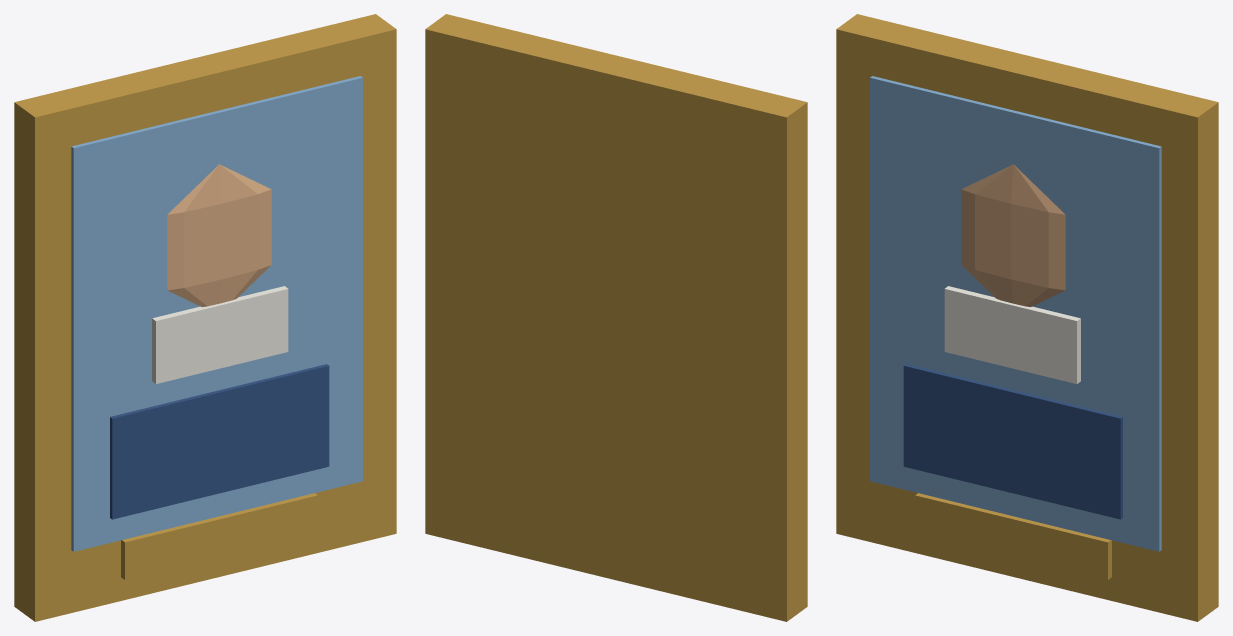
File: employee_photo.glb
3 views of the same model, side by side, from view 1: azimuth 30°, elevation 25°; view 2: azimuth 150°, elevation 25°; view 3: azimuth 330°, elevation 25° (orthographic).
Visible parts, largest first — view 1: photo_photo_blue, frame_frame_gold, shirt_photo_shirt, face_photo_skin, brace_collar_white, plate_frame_gold; view 2: frame_frame_gold; view 3: photo_photo_blue, frame_frame_gold, shirt_photo_shirt, face_photo_skin, brace_collar_white, plate_frame_gold.
Boxes of the visible parts, box(x1,y1,x2,y2) form: photo_photo_blue: box(71, 76, 362, 551); frame_frame_gold: box(14, 14, 396, 621); shirt_photo_shirt: box(110, 364, 329, 519); face_photo_skin: box(167, 164, 271, 306); brace_collar_white: box(152, 286, 288, 383); plate_frame_gold: box(121, 493, 317, 579); frame_frame_gold: box(425, 14, 807, 621); photo_photo_blue: box(870, 76, 1161, 551); frame_frame_gold: box(836, 14, 1218, 621); shirt_photo_shirt: box(903, 364, 1122, 519); face_photo_skin: box(961, 164, 1065, 306); brace_collar_white: box(944, 286, 1080, 383); plate_frame_gold: box(915, 493, 1111, 579).
Bounding box in the file's own units: 0.3 × 0.4 × 0.039.
